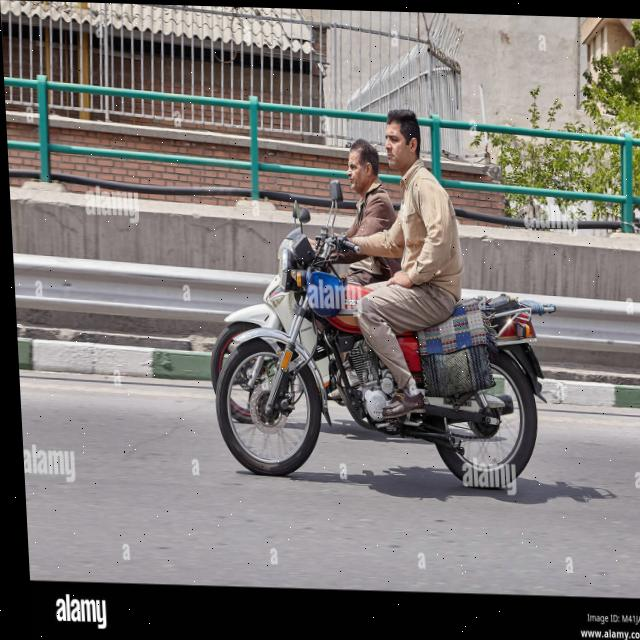without helmet: (380, 100, 427, 185)
